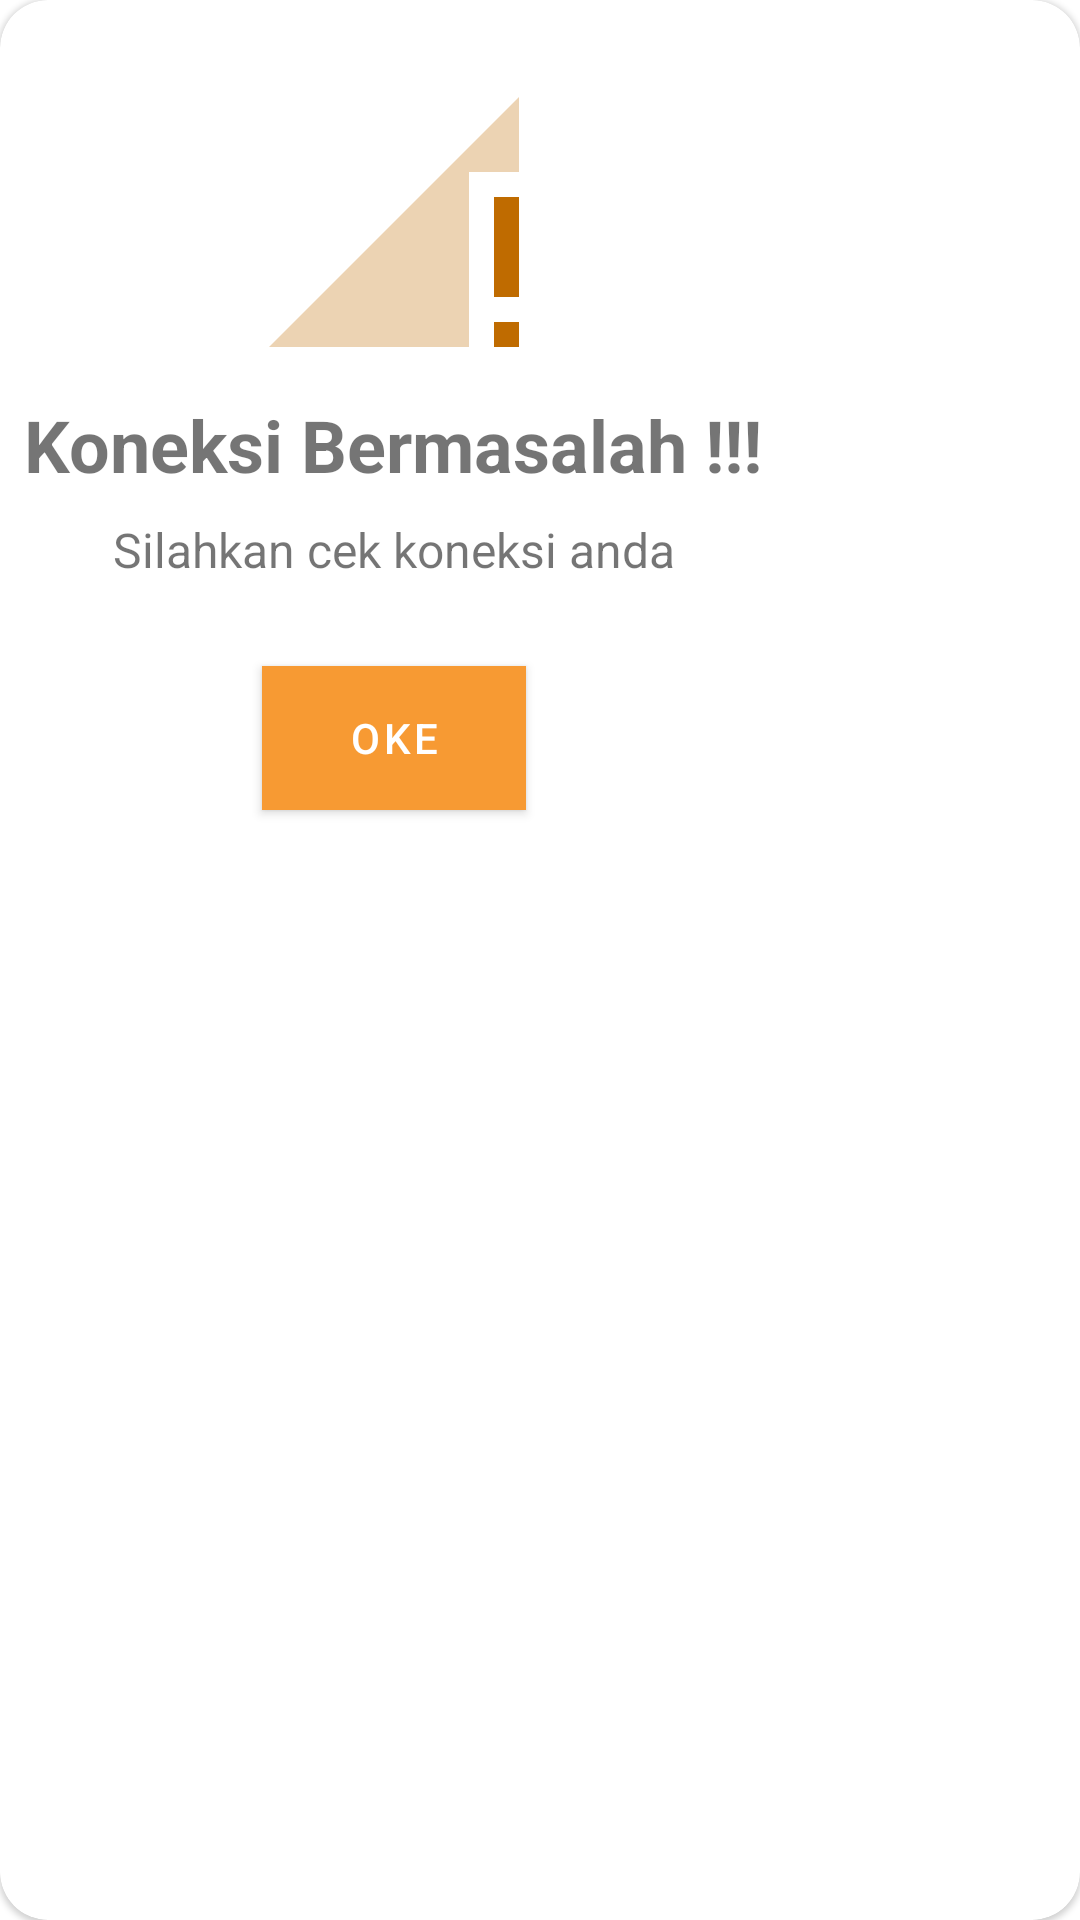

Where to tap for icons on this 1080px x 1920px app screen, as [x,y]:
no connection: [394,222]
